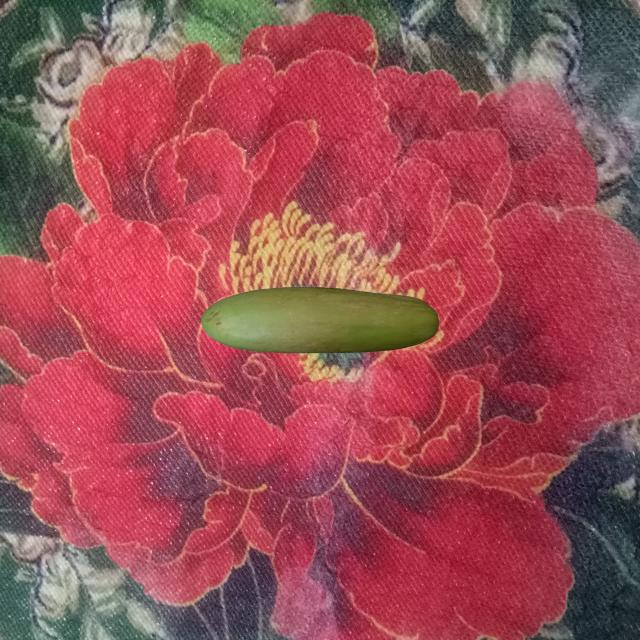Pepaya unrippen: (198, 286, 450, 366)
